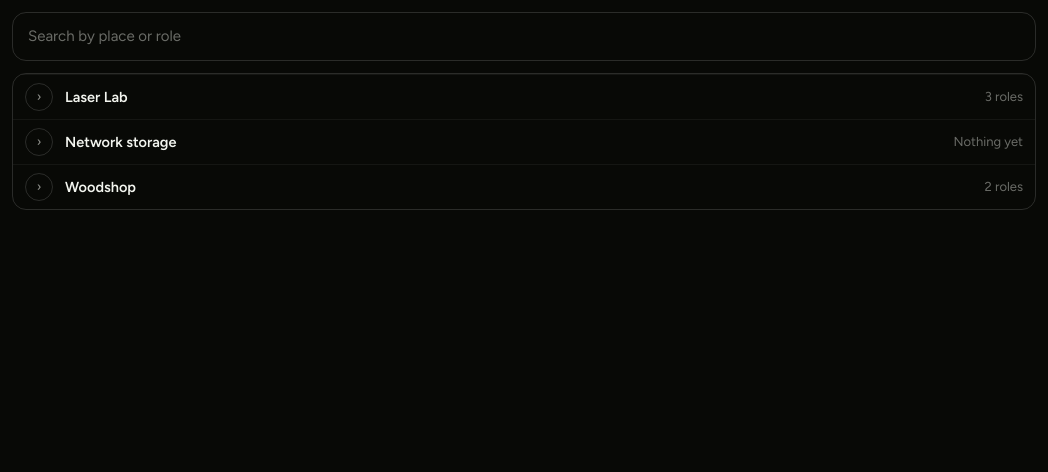
RolePicker · single choice › picks one role with a radio seat, shows it as one chip, and counts it in its place
Click the button "› Laser Lab 3 roles" at (96, 97), box [13,75,1035,119]
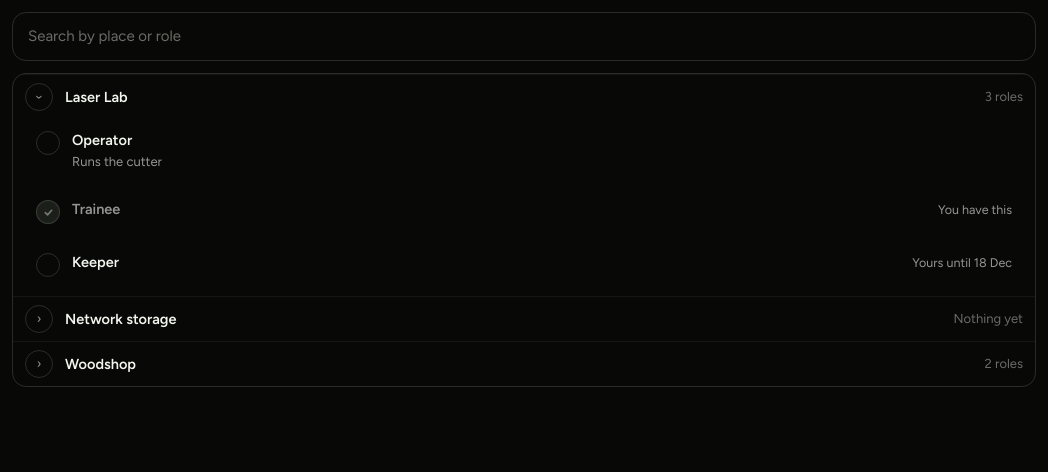
Click the radio button labelled "Operator Runs the cutter" at (99, 150), box [36,131,162,169]
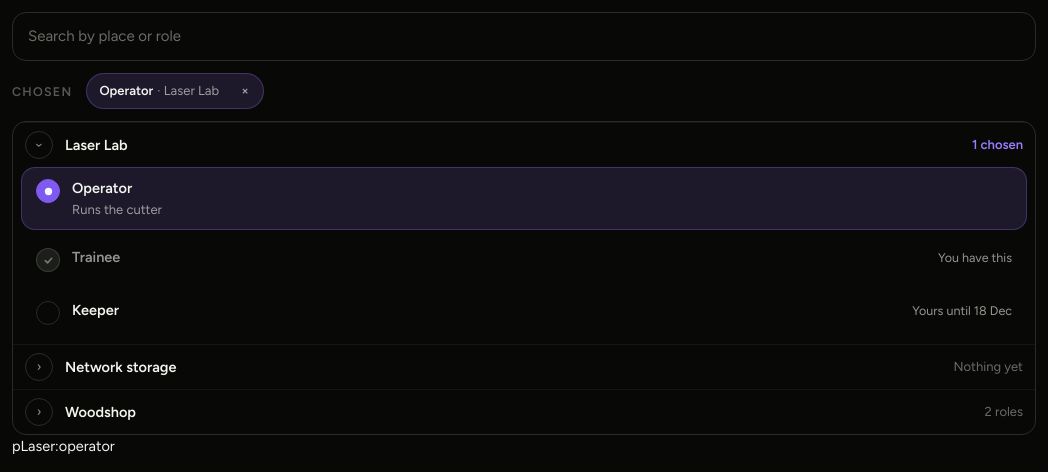
Result: the text with test id "value" reads "pLaser:operator" at [12,437,115,455]
Result: the button "› Laser Lab 1 chosen" is shown at [13,123,1035,167]
Result: the button named "Remove Operator" is shown at [223,69,267,113]
